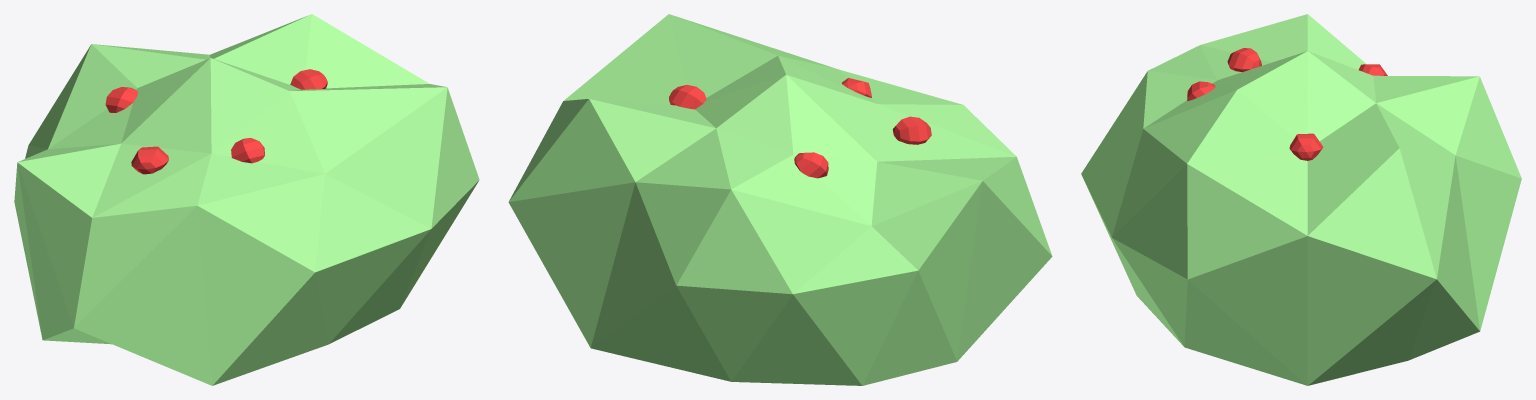
File: berryBush.fbx
3 renders of one model, left to right at view 1: azimuth 30°, elevation 25°; view 2: azimuth 150°, elevation 25°; view 3: azimuth 270°, elevation 25°, orthographic. The views are drawn at different scales.
Visible parts, largest first — view 1: bush, bushBerries; view 2: bush, bushBerries; view 3: bush, bushBerries.
Part boxes in pixels (x1,y1,x2,y2): bush: (14, 14, 479, 385); bushBerries: (105, 69, 327, 174); bush: (508, 14, 1052, 385); bushBerries: (669, 78, 931, 178); bush: (1081, 14, 1521, 385); bushBerries: (1187, 48, 1387, 160).
Size of the model in its own units: 3.52 by 1.98 by 3.24.
